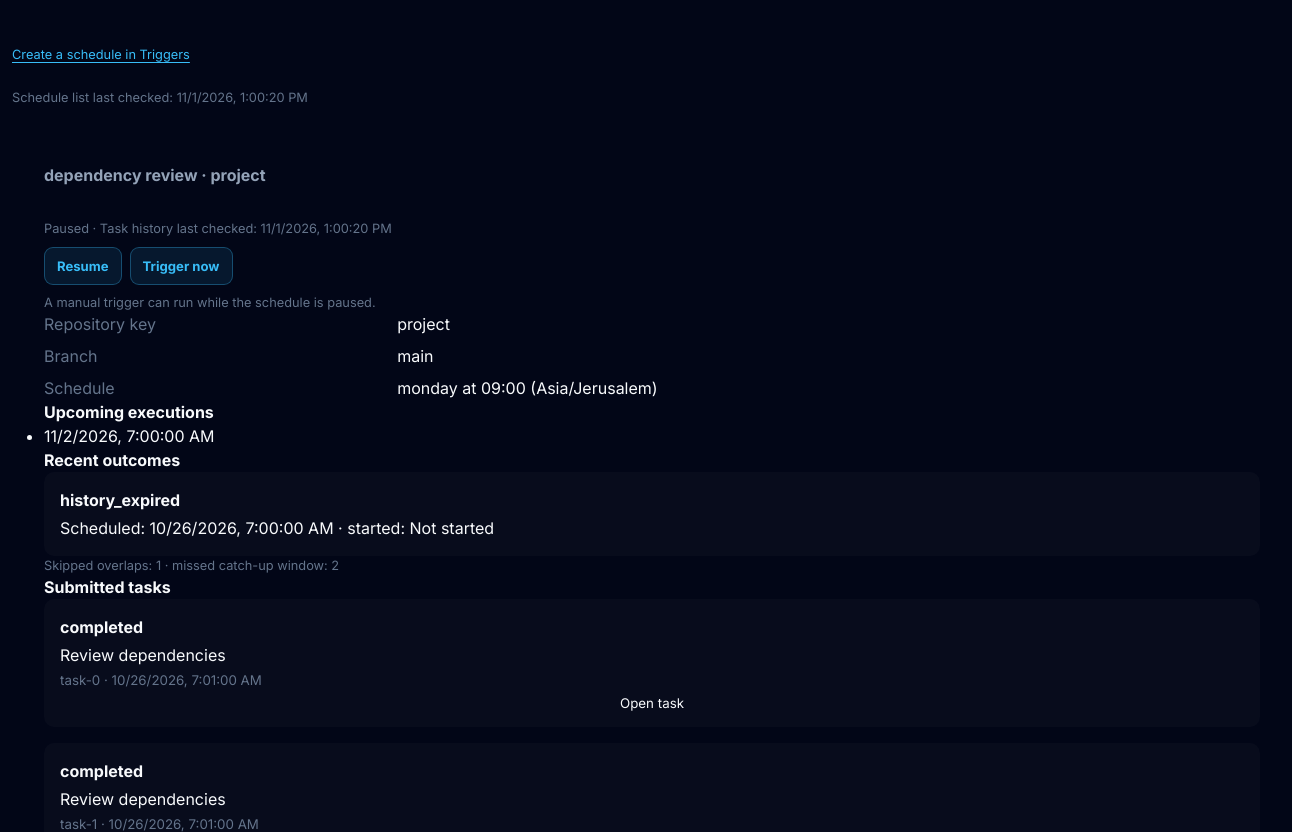
Test: ScheduleVisibilitySection › shows schedule details, expired history, pagination, and opens a submitted task
Expected: the text "Paused · Task history last checked:" is shown, left=44, top=221, right=392, bottom=236
Expected: the text "monday at 09:00 (Asia/Jerusalem)" is shown, left=397, top=378, right=658, bottom=398
What coordinates should you click on to do the following:
click the button "Open task"
I would click on:
 (652, 703)
Its box is left=60, top=695, right=1244, bottom=711.
(page scrolled)
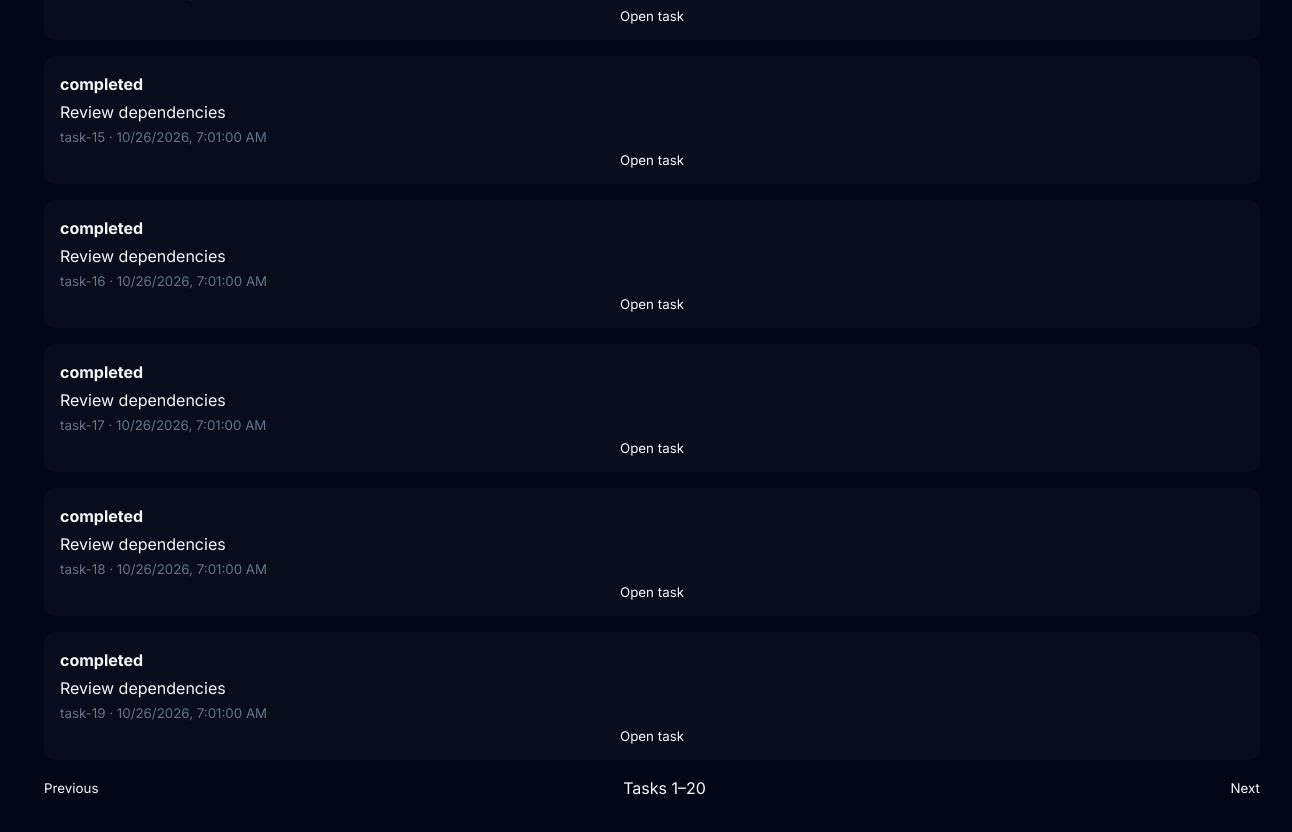
What coordinates should you click on to do the following:
click the button "Next"
I would click on:
 (1245, 788)
Its box is left=1231, top=780, right=1260, bottom=796.
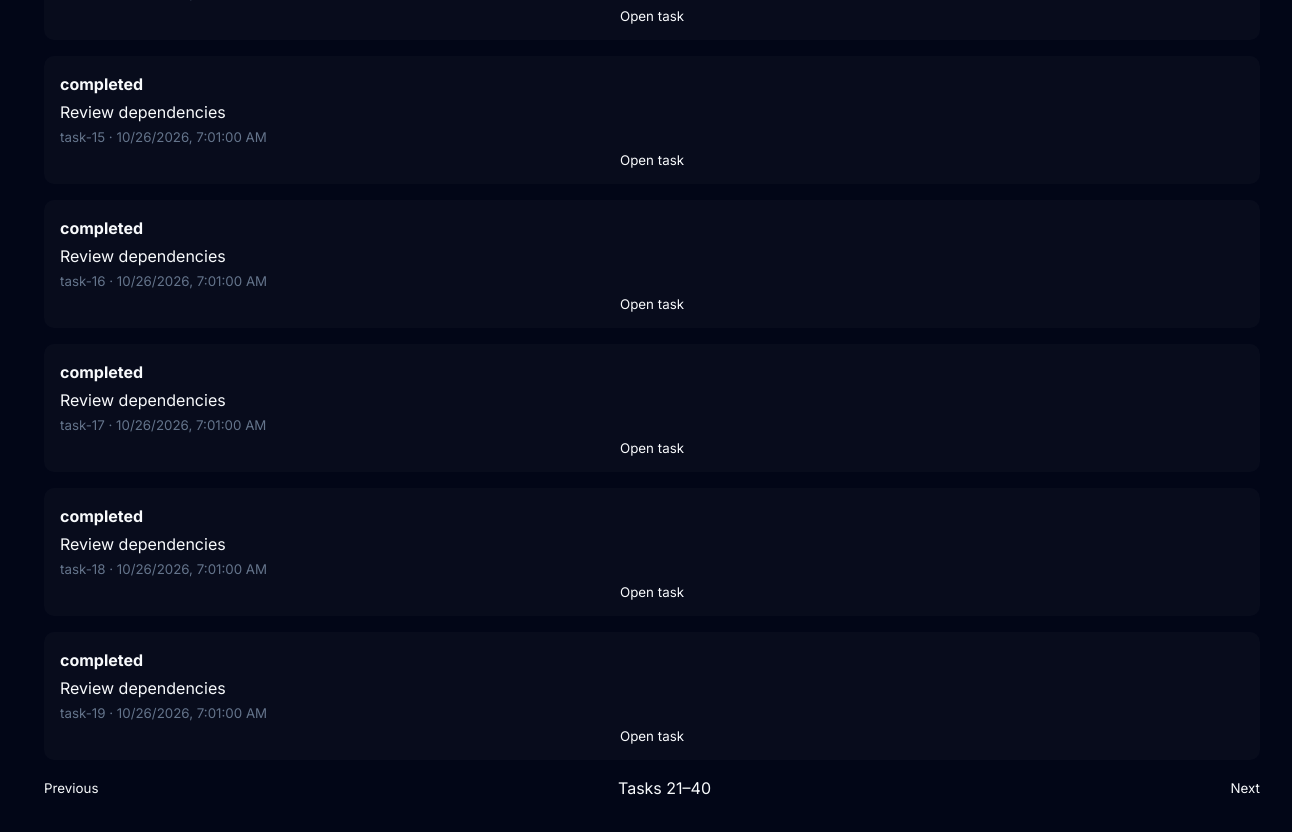
Now the text "Tasks 21–40" is shown, box left=618, top=776, right=711, bottom=800
